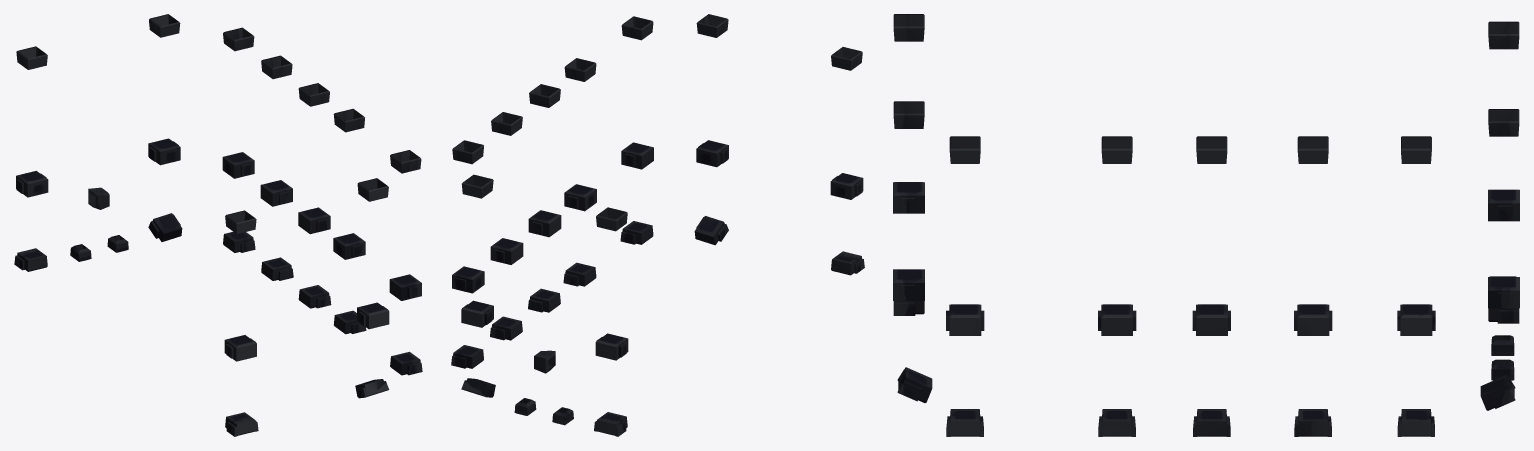
File: Wall_03.FBX
3 renders of one model, left to right at view 1: azimuth 30°, elevation 25°; view 2: azimuth 150°, elevation 25°; view 3: azimuth 270°, elevation 25°, orthographic. The views are drawn at different scales.
Visible parts, largest first — view 1: Wall_03; view 2: Wall_03; view 3: Wall_03.
Part boxes in pixels (bbox=[...]): Wall_03: bbox=[14, 14, 422, 436]; Wall_03: bbox=[451, 14, 864, 436]; Wall_03: bbox=[893, 14, 1519, 436].
Bounding box in the file's own units: 13.39 × 13.35 × 25.84.
